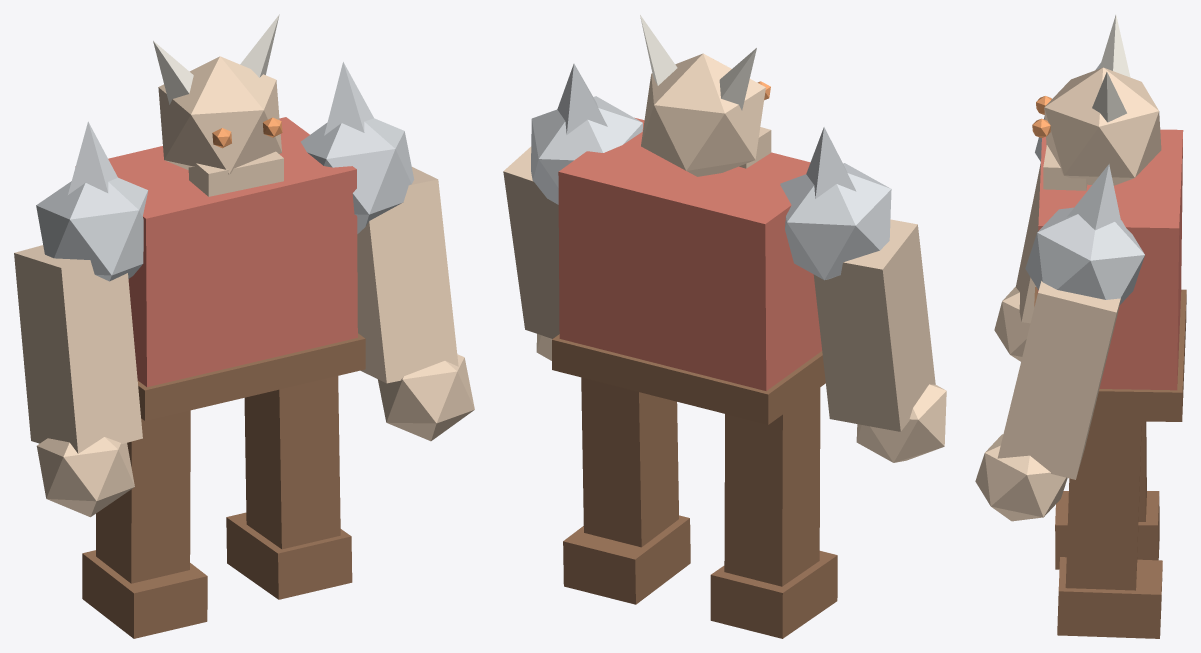
The model's file is npcpose_brute_idle_07.glb.
3 views of the same model, side by side, from view 1: azimuth 30°, elevation 25°; view 2: azimuth 150°, elevation 25°; view 3: azimuth 270°, elevation 25° (orthographic). The views are drawn at different scales.
Visible parts, largest first — view 1: npcpose; view 2: npcpose; view 3: npcpose.
Part boxes in pixels (x1=…): npcpose: x1=14, y1=14, x2=474, y2=638; npcpose: x1=503, y1=15, x2=946, y2=638; npcpose: x1=975, y1=15, x2=1186, y2=638.
Bounding box in the file's own units: 1.43 × 1.86 × 0.6557.
